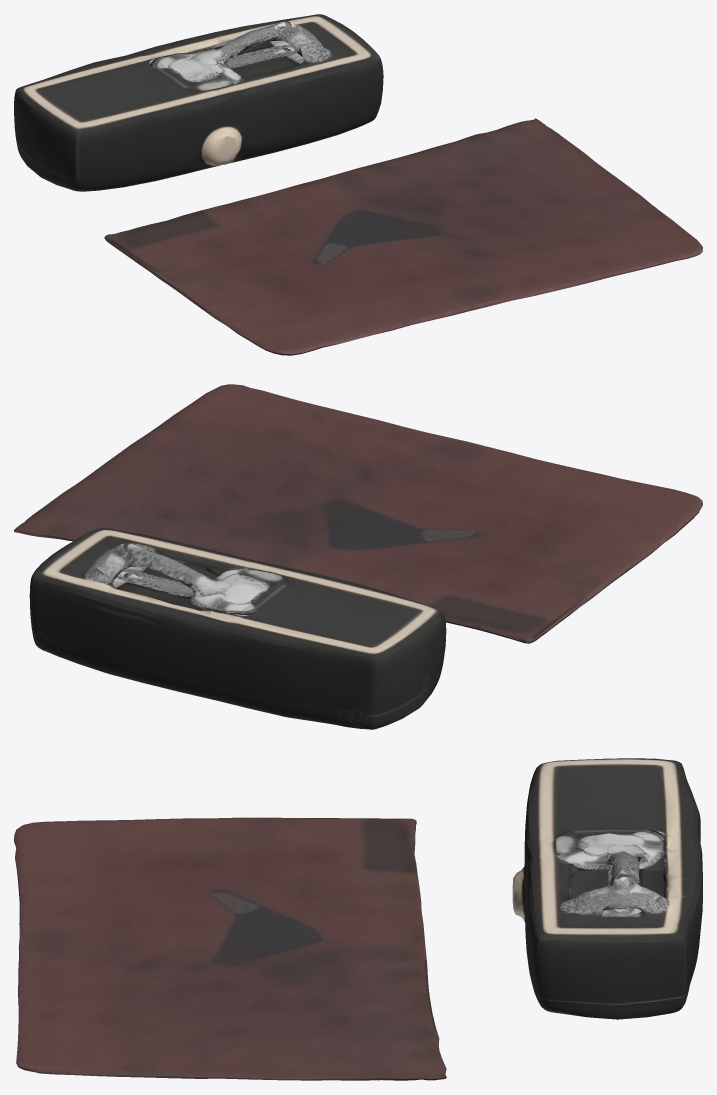
Rendered from desk_pen_tray_nostalgy.fbx.
The picture shows the model from 3 angles, top to bottom: view 1: azimuth 30°, elevation 25°; view 2: azimuth 150°, elevation 25°; view 3: azimuth 270°, elevation 25°; orthographic projection. The views are drawn at different scales.
Visible parts, largest first — view 1: Mesh0; view 2: Mesh0; view 3: Mesh0.
Part boxes in pixels (<box>): Mesh0: <box>14,14,702,355</box>; Mesh0: <box>14,384,702,729</box>; Mesh0: <box>14,758,702,1080</box>.
Size of the model in its own units: 170 by 34.43 by 191.
Materials: 1 (1 with a texture image).
